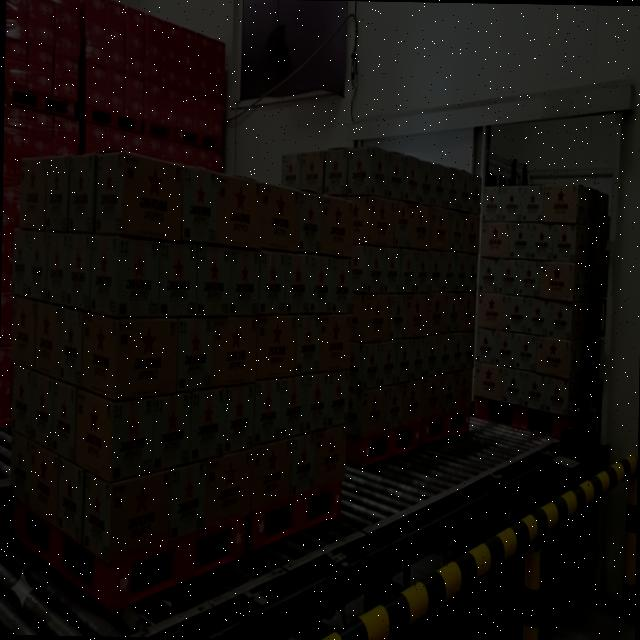pallet: (8, 132, 256, 624), (277, 148, 427, 467), (248, 170, 358, 558), (474, 178, 613, 454), (418, 152, 481, 450)
